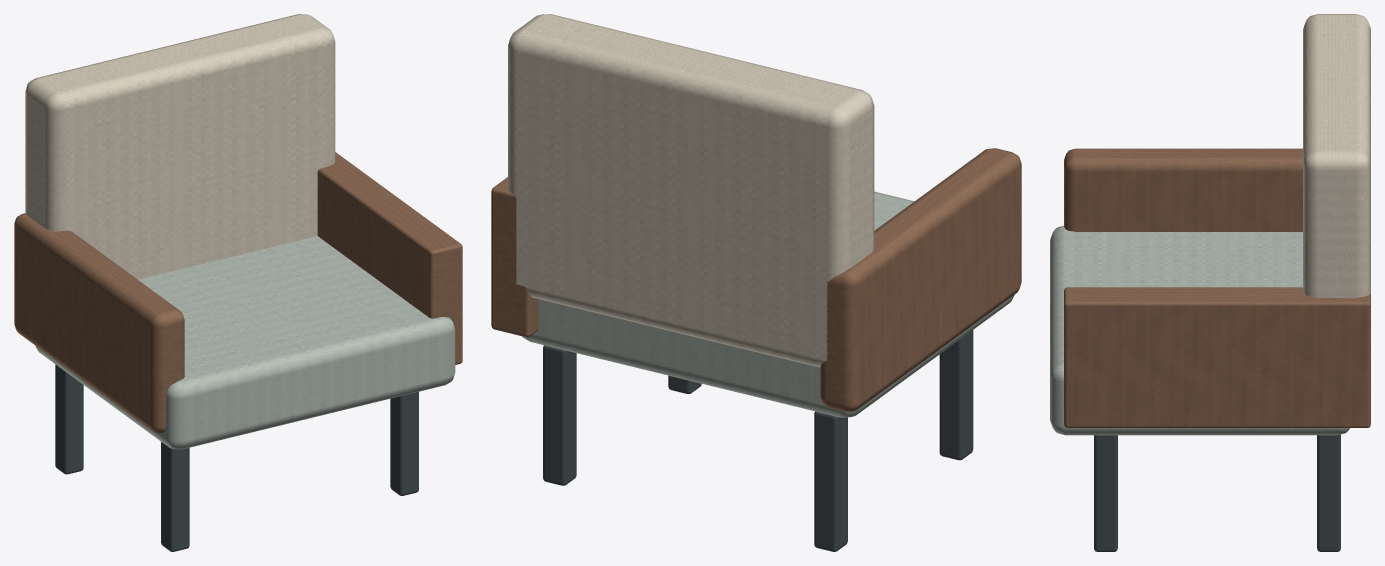
Rendered from lounge_chair.glb.
3 views of the same model, side by side, from view 1: azimuth 30°, elevation 25°; view 2: azimuth 150°, elevation 25°; view 3: azimuth 270°, elevation 25° (orthographic). The views are drawn at different scales.
Visible parts, largest first — view 1: LoungeBack, LoungeSeat, LoungeArm, _MeshInstance3D_16, _MeshInstance3D_17, _MeshInstance3D_19, LoungeLeg; view 2: LoungeBack, LoungeArm, LoungeSeat, _MeshInstance3D_16, LoungeLeg, _MeshInstance3D_18, _MeshInstance3D_17; view 3: _MeshInstance3D_16, LoungeArm, LoungeBack, LoungeSeat, _MeshInstance3D_18, _MeshInstance3D_19.
Boxes of the visible parts, bbox=[...] form: LoungeBack: bbox=[25, 14, 335, 279]; LoungeSeat: bbox=[35, 236, 455, 449]; LoungeArm: bbox=[14, 213, 184, 433]; _MeshInstance3D_16: bbox=[317, 152, 462, 364]; _MeshInstance3D_17: bbox=[161, 442, 189, 551]; _MeshInstance3D_19: bbox=[390, 392, 418, 495]; LoungeLeg: bbox=[55, 364, 83, 474]; LoungeBack: bbox=[508, 14, 874, 367]; LoungeArm: bbox=[820, 148, 1021, 411]; LoungeSeat: bbox=[522, 191, 1014, 417]; _MeshInstance3D_16: bbox=[491, 177, 538, 337]; LoungeLeg: bbox=[814, 411, 847, 551]; _MeshInstance3D_18: bbox=[543, 345, 576, 485]; _MeshInstance3D_17: bbox=[939, 330, 973, 460]; _MeshInstance3D_16: bbox=[1064, 287, 1370, 427]; LoungeArm: bbox=[1064, 148, 1302, 231]; LoungeBack: bbox=[1303, 14, 1370, 297]; LoungeSeat: bbox=[1050, 225, 1349, 435]; _MeshInstance3D_18: bbox=[1317, 434, 1340, 551]; _MeshInstance3D_19: bbox=[1094, 435, 1117, 551].
Bounding box in the file's own units: 0.94 × 1.12 × 0.805.
4 materials, 3 textured.
